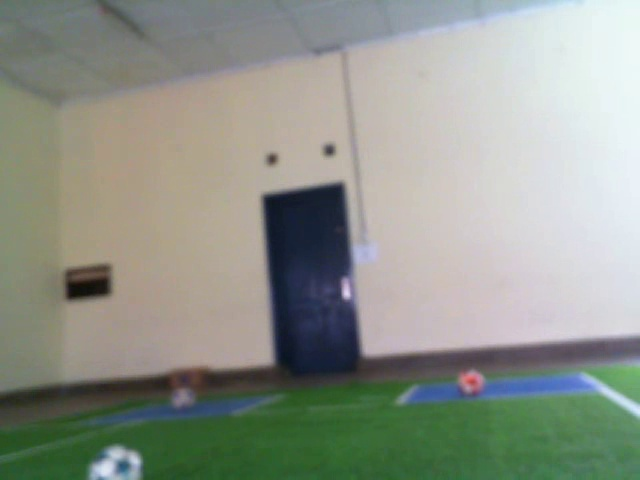ball: (85, 440, 148, 480), (456, 367, 490, 400), (168, 383, 199, 413)
